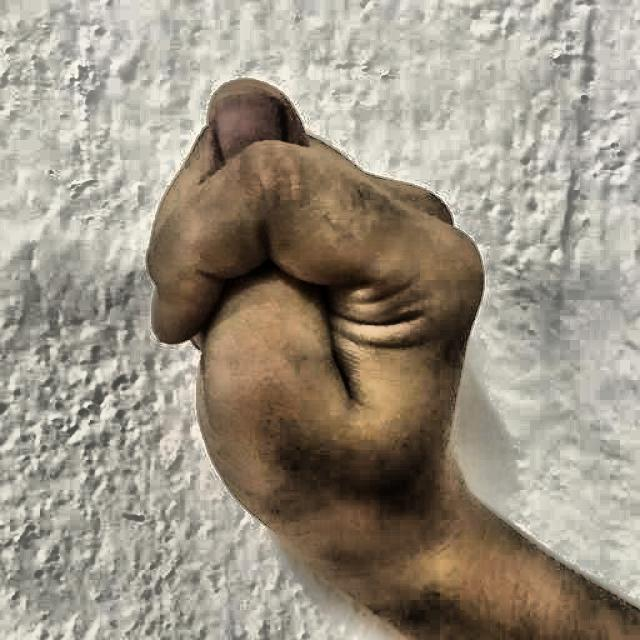Ta: (106, 40, 594, 640)
